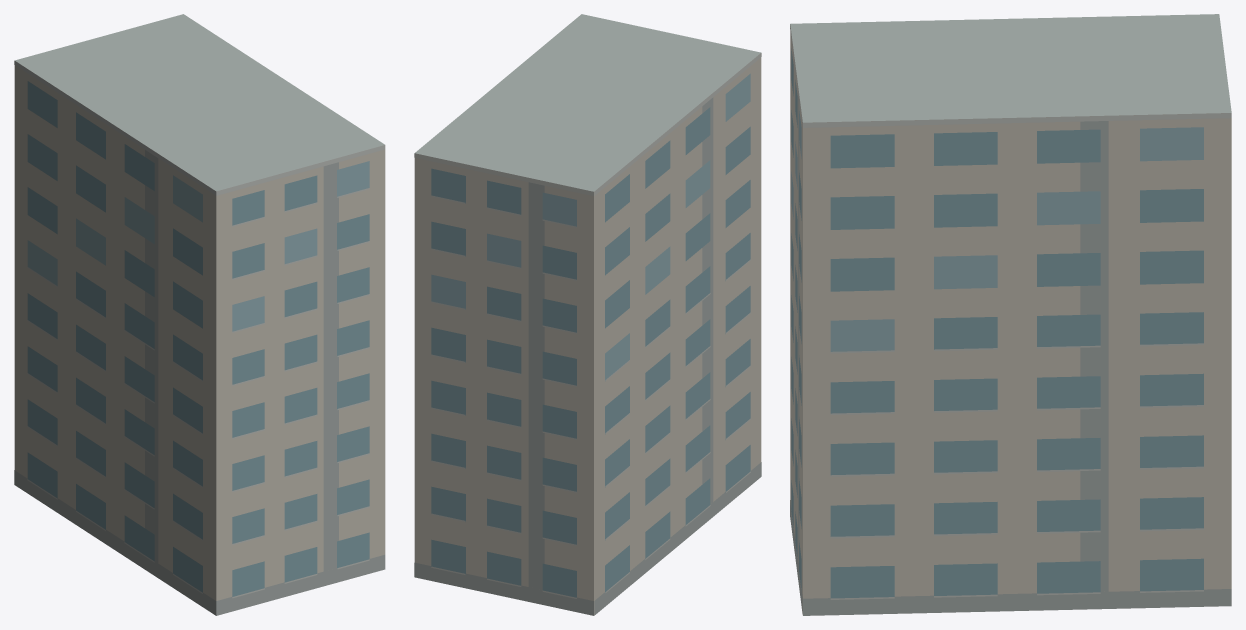
Rendered from residential-bf6dfce7-fbcd-4efb-a210-9b342d6edc64.glb.
3 views of the same model, side by side, from view 1: azimuth 30°, elevation 25°; view 2: azimuth 150°, elevation 25°; view 3: azimuth 270°, elevation 25° (orthographic). The views are drawn at different scales.
Parts seen in each view (by area): view 1: residential-bf6dfce7-fbcd-4efb-a210-9b342d6edc64.tmp; view 2: residential-bf6dfce7-fbcd-4efb-a210-9b342d6edc64.tmp; view 3: residential-bf6dfce7-fbcd-4efb-a210-9b342d6edc64.tmp.
Boxes of the visible parts, x1,y1,x2,y2 form: residential-bf6dfce7-fbcd-4efb-a210-9b342d6edc64.tmp: (14,14,385,615); residential-bf6dfce7-fbcd-4efb-a210-9b342d6edc64.tmp: (414,14,761,615); residential-bf6dfce7-fbcd-4efb-a210-9b342d6edc64.tmp: (790,14,1231,615).
Size of the model in its own units: 10.88 by 23 by 18.67.
